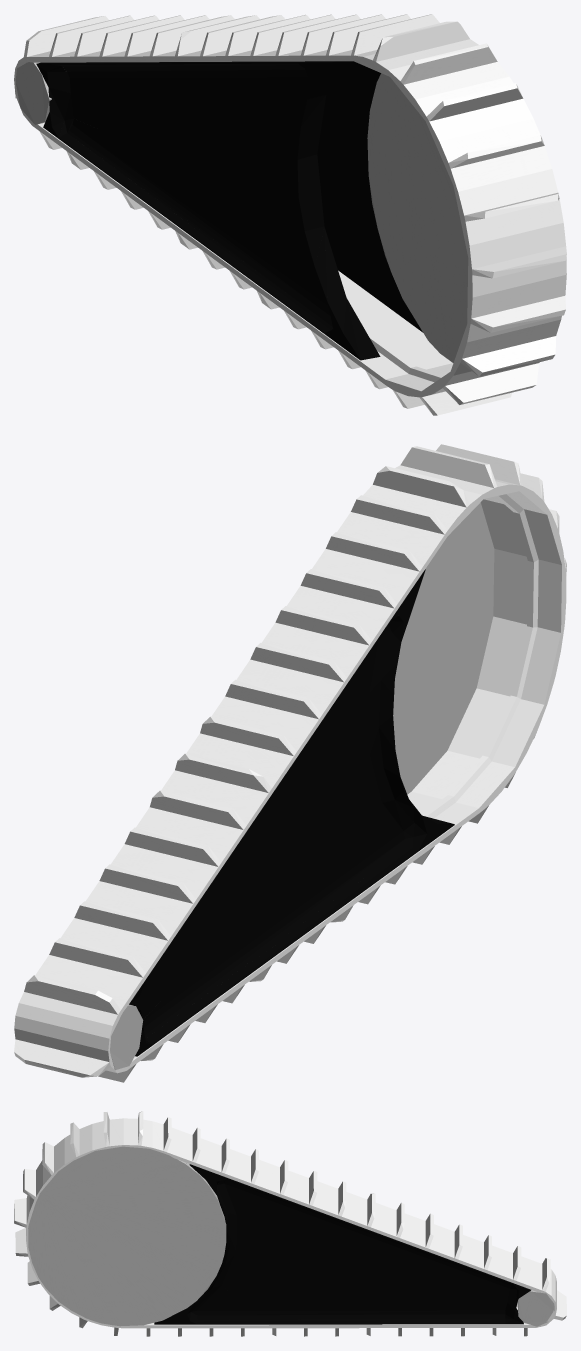
Rendered from flipper.dae.
The picture shows the model from 3 angles, top to bottom: view 1: azimuth 30°, elevation 25°; view 2: azimuth 150°, elevation 25°; view 3: azimuth 270°, elevation 25°; orthographic projection. The views are drawn at different scales.
Visible parts, largest first — view 1: node; view 2: node; view 3: node.
Part boxes in pixels (left/top/right/bottom): node: left=14, top=14, right=566, bottom=415; node: left=14, top=444, right=566, bottom=1082; node: left=14, top=1111, right=566, bottom=1336.
Size of the model in its own units: 0.0513 by 0.4374 by 0.1794.
1 material, 1 textured.
